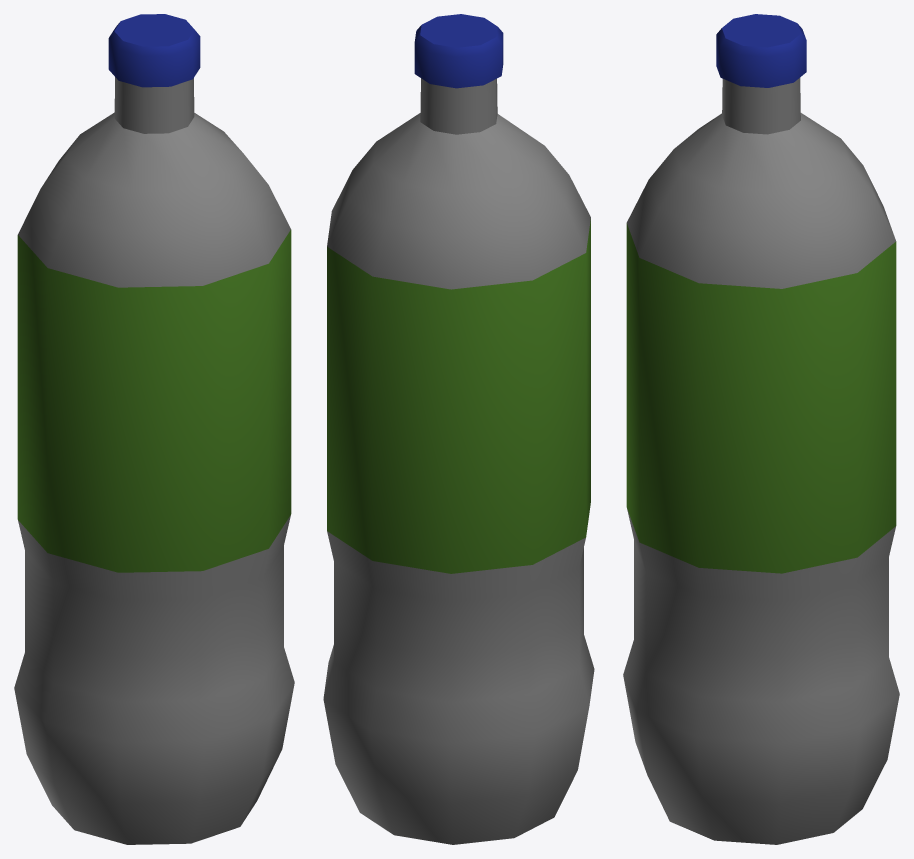
The model's file is botella.fbx.
3 renders of one model, left to right at view 1: azimuth 30°, elevation 25°; view 2: azimuth 150°, elevation 25°; view 3: azimuth 270°, elevation 25°, orthographic.
Parts seen in each view (by area): view 1: polySurface51_pCylinder14; view 2: polySurface51_pCylinder14; view 3: polySurface51_pCylinder14.
Part boxes in pixels (box(x1,y1,x2,y2)): polySurface51_pCylinder14: box(14, 14, 294, 844); polySurface51_pCylinder14: box(323, 14, 594, 844); polySurface51_pCylinder14: box(623, 14, 899, 844).
Size of the model in its own units: 35.12 by 108 by 35.06.
